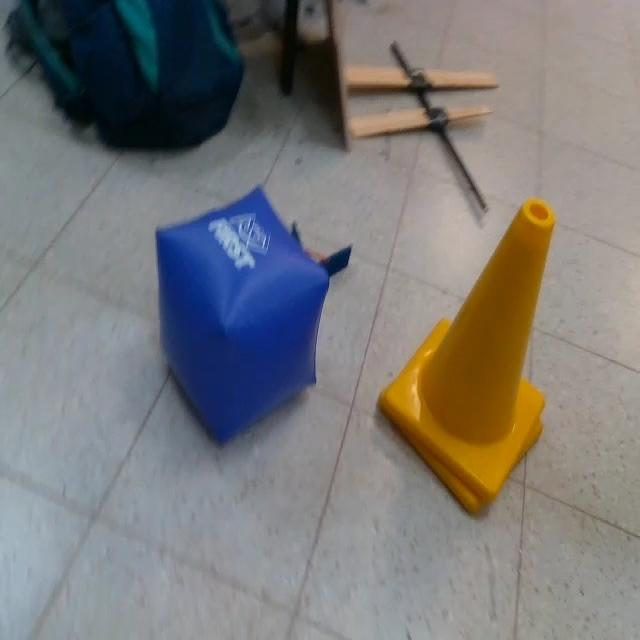cone: (378, 196, 556, 521)
cube: (155, 185, 331, 447)
